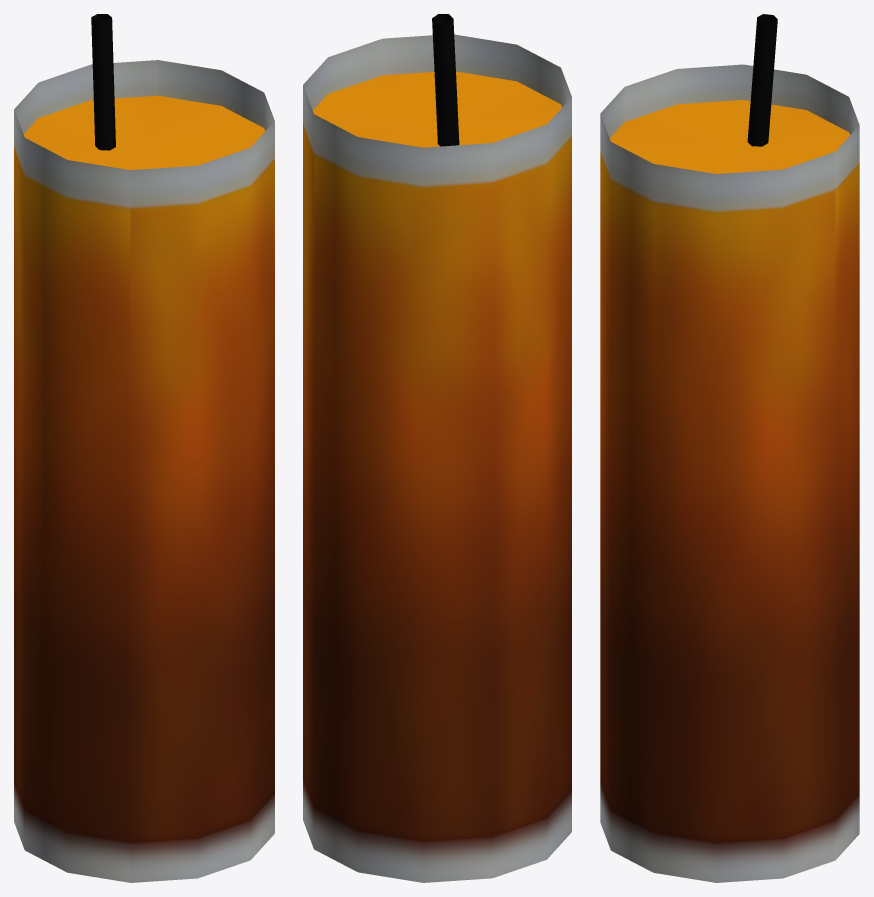
File: Drink2.fbx
The picture shows the model from 3 angles, left to right: view 1: azimuth 30°, elevation 25°; view 2: azimuth 150°, elevation 25°; view 3: azimuth 270°, elevation 25°; orthographic projection. The views are drawn at different scales.
Parts seen in each view (by area): view 1: Empty_Mesh; view 2: Empty_Mesh; view 3: Empty_Mesh.
Part boxes in pixels (x1,y1,x2,y2): Empty_Mesh: (14, 14, 274, 882); Empty_Mesh: (303, 14, 571, 882); Empty_Mesh: (600, 14, 859, 882).
Size of the model in its own units: 4.97 by 16.9 by 4.97.
